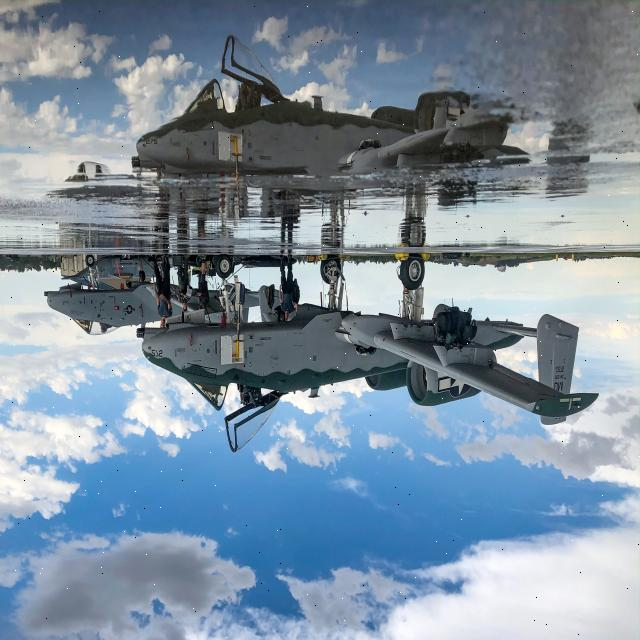A10: (142, 245, 602, 486)
